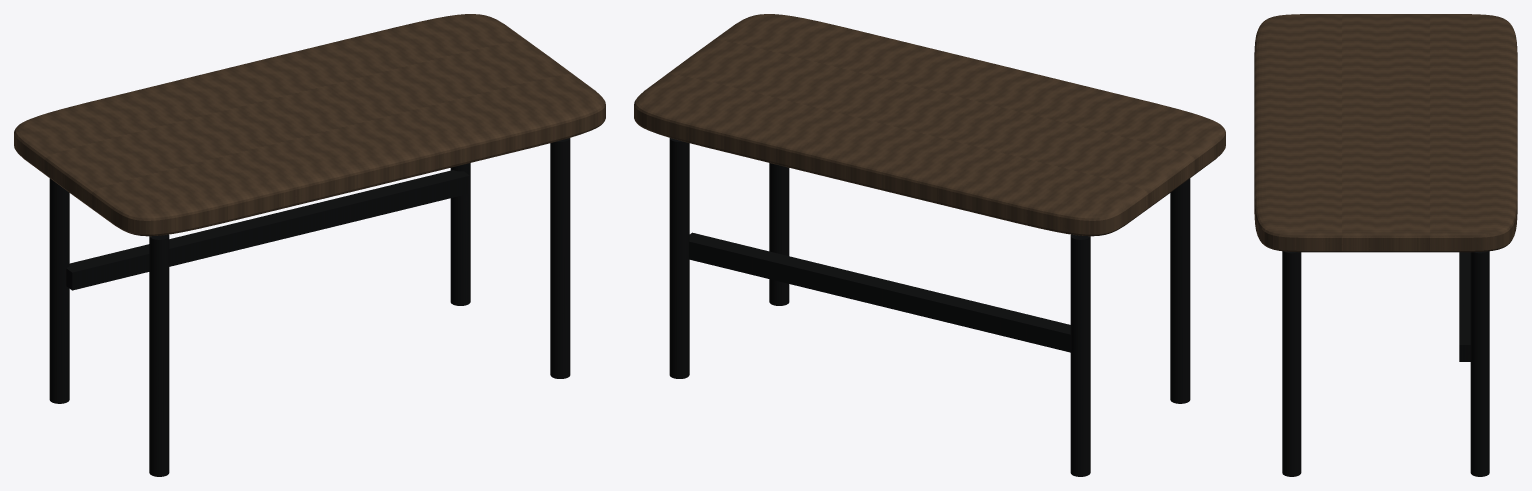
Rendered from office-desk-1400.glb.
3 views of the same model, side by side, from view 1: azimuth 30°, elevation 25°; view 2: azimuth 150°, elevation 25°; view 3: azimuth 270°, elevation 25° (orthographic). The views are drawn at different scales.
Visible parts, largest first — view 1: top, crossbeam, leg_3, leg_4, leg_1, leg_2; view 2: top, crossbeam, leg_1, leg_2, leg_3, leg_4; view 3: top, leg_4, leg_2, crossbeam.
Boxes of the visible parts, x1=… form: top: x1=14, y1=14, x2=605, y2=236; crossbeam: x1=66, y1=170, x2=469, y2=290; leg_3: x1=149, y1=234, x2=169, y2=476; leg_4: x1=550, y1=138, x2=570, y2=378; leg_1: x1=49, y1=178, x2=69, y2=403; leg_2: x1=450, y1=163, x2=470, y2=305; top: x1=634, y1=14, x2=1225, y2=236; crossbeam: x1=689, y1=232, x2=1070, y2=352; leg_1: x1=1070, y1=234, x2=1090, y2=476; leg_2: x1=669, y1=138, x2=689, y2=378; leg_3: x1=1170, y1=178, x2=1190, y2=403; leg_4: x1=769, y1=163, x2=789, y2=305; top: x1=1254, y1=14, x2=1517, y2=252; leg_4: x1=1282, y1=251, x2=1301, y2=476; leg_2: x1=1470, y1=251, x2=1489, y2=476; crossbeam: x1=1459, y1=252, x2=1470, y2=361.
Size of the model in its own units: 1.4 by 0.76 by 0.7.
Materials: 2 (2 with a texture image).
